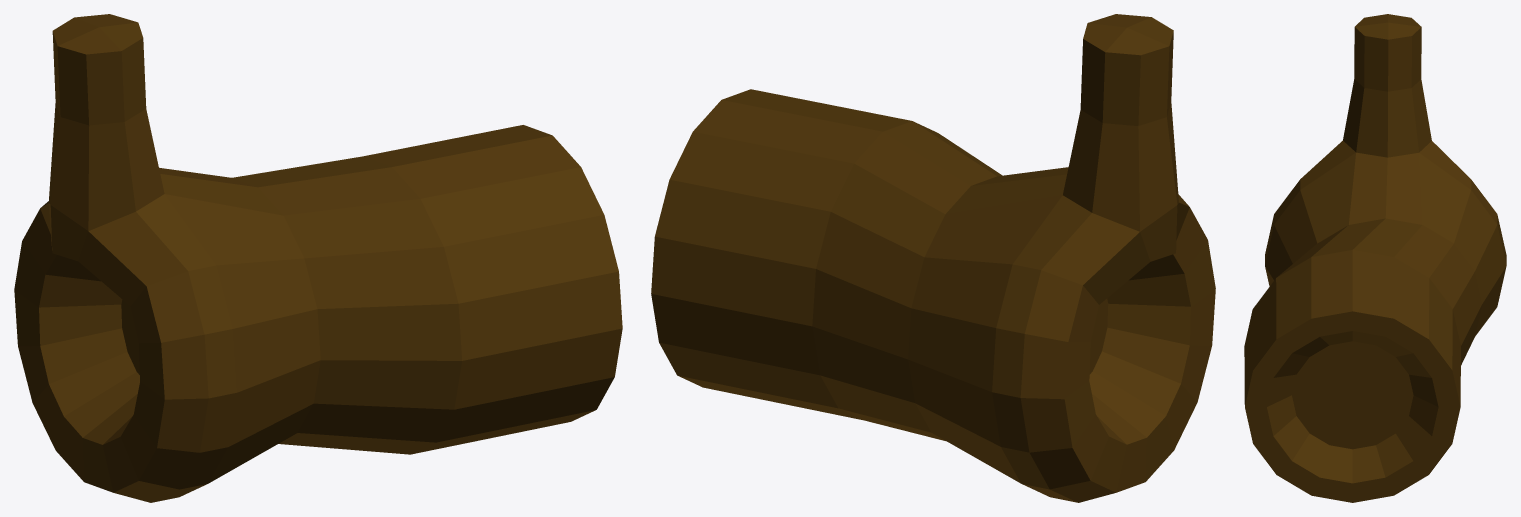
File: props_TrocoPark.fbx
The picture shows the model from 3 angles, left to right: view 1: azimuth 30°, elevation 25°; view 2: azimuth 150°, elevation 25°; view 3: azimuth 270°, elevation 25°; orthographic projection. The views are drawn at different scales.
Visible parts, largest first — view 1: Tronco; view 2: Tronco; view 3: Tronco.
Part boxes in pixels (x1,y1,x2,y2): Tronco: (14,14,622,502); Tronco: (651,14,1215,502); Tronco: (1244,14,1506,502).
Size of the model in its own units: 158 by 148 by 105.
